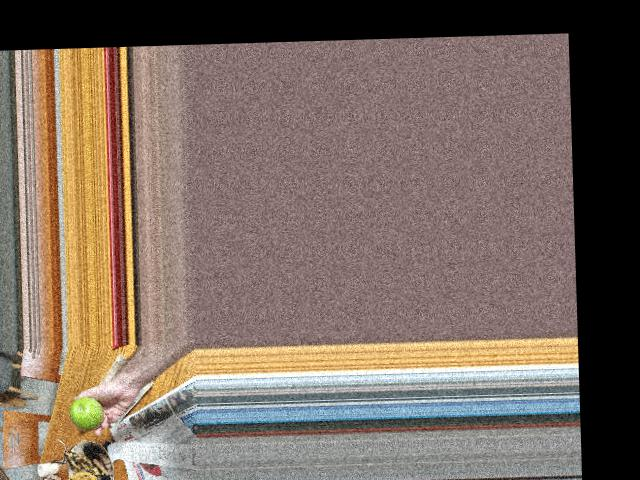apple: (69, 396, 106, 430)
